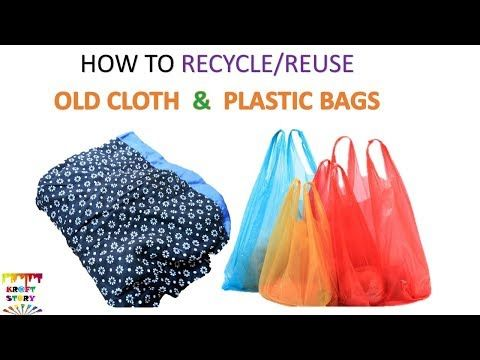plastic_bagwdw: (303, 118, 455, 324), (212, 109, 335, 320), (258, 154, 359, 320)
